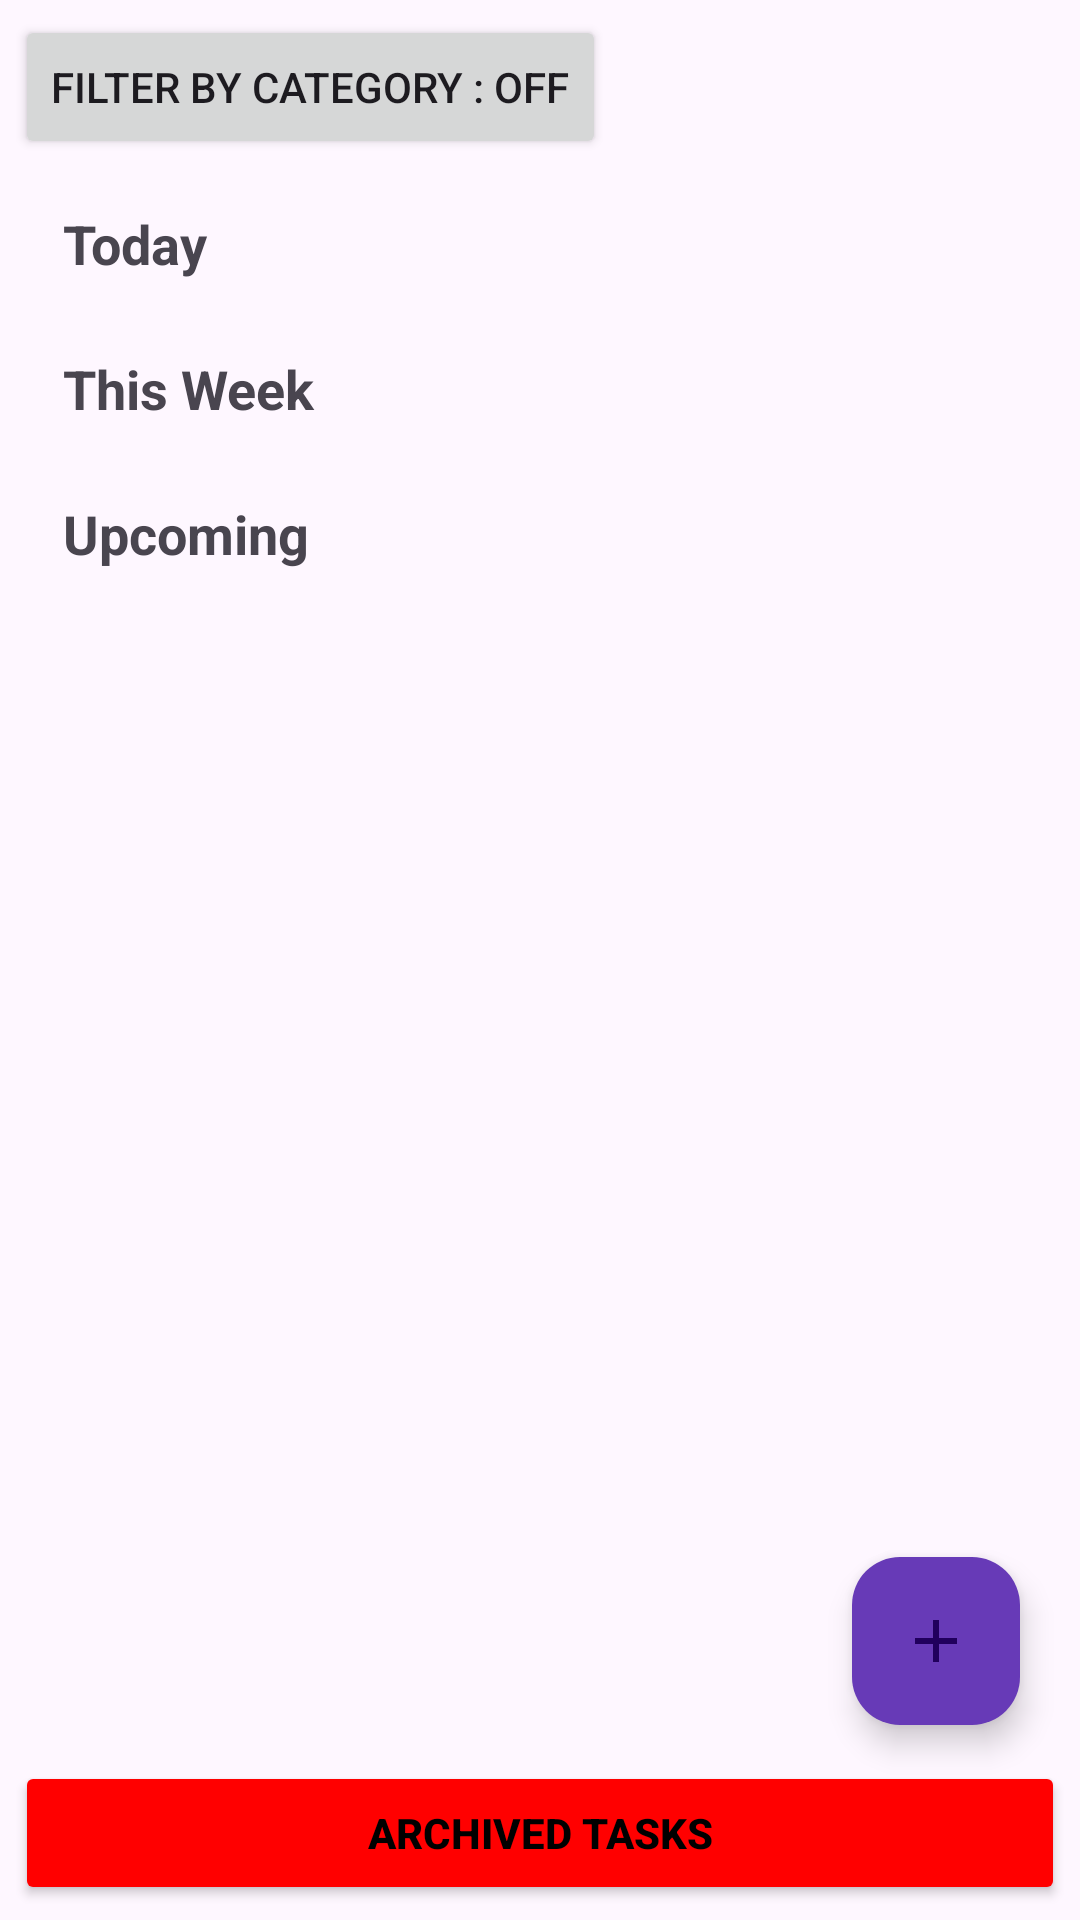

Screen size 1080x1920. Icon name, then its box in pixels as bbox(x1, y1, x2, y2):
add: bbox(852, 1557, 1020, 1725)
